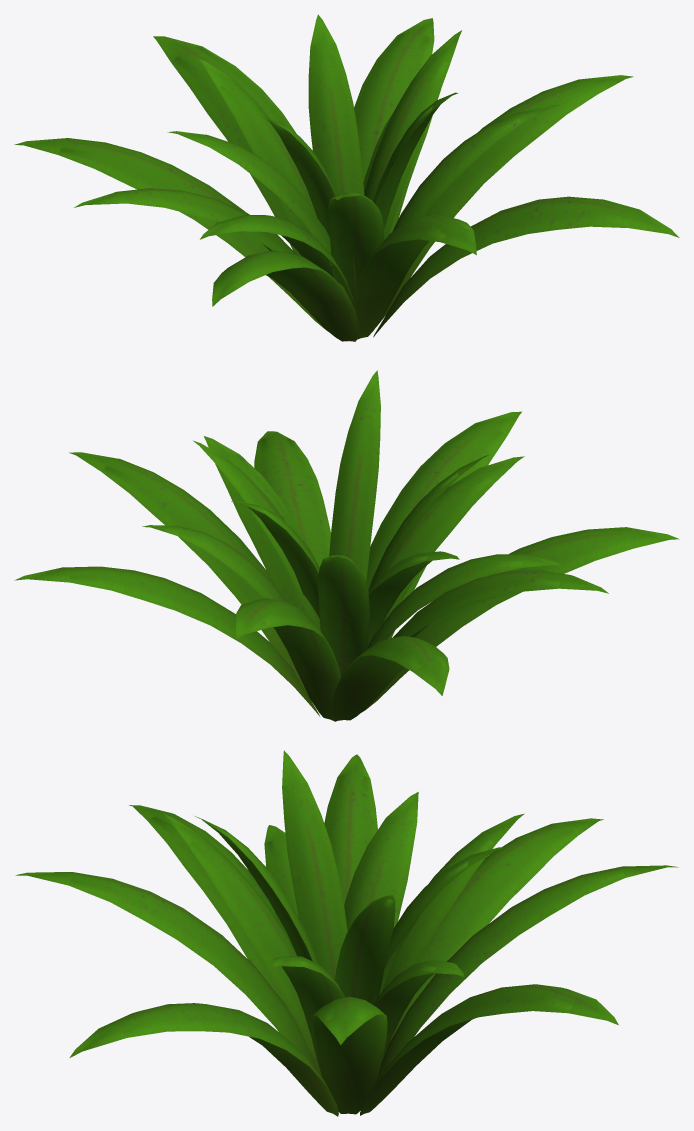
Rendered from sb_obj_nature010_Jungles03a.fbx.
3 renders of one model, top to bottom at view 1: azimuth 30°, elevation 25°; view 2: azimuth 150°, elevation 25°; view 3: azimuth 270°, elevation 25°, orthographic. The views are drawn at different scales.
Parts seen in each view (by area): view 1: sb_obj_nature010_Jungles03a; view 2: sb_obj_nature010_Jungles03a; view 3: sb_obj_nature010_Jungles03a.
Boxes of the visible parts, x1,y1,x2,y2 form: sb_obj_nature010_Jungles03a: (14, 14, 679, 341); sb_obj_nature010_Jungles03a: (14, 370, 679, 721); sb_obj_nature010_Jungles03a: (15, 750, 678, 1116).
Bounding box in the file's own units: 2.12 × 1.05 × 2.03.
